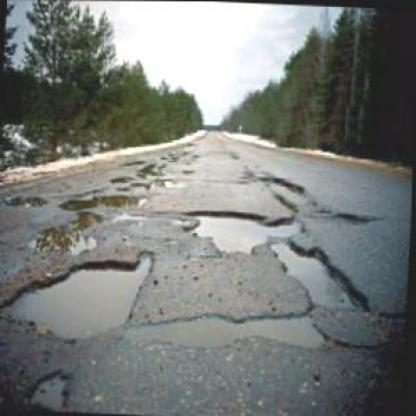pothole: (0, 240, 159, 351), (127, 301, 332, 356), (266, 239, 379, 312), (183, 210, 305, 260), (30, 206, 106, 256), (256, 172, 319, 215), (60, 187, 151, 211), (31, 364, 72, 410), (3, 191, 50, 207), (334, 208, 375, 226)
